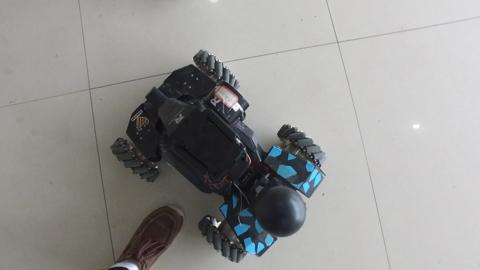chariot: (86, 29, 323, 244)
